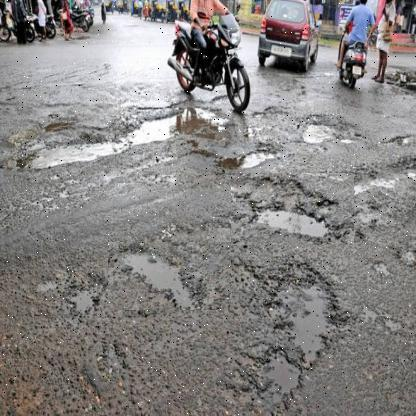damage: (108, 242, 232, 311)
pothole_water: (231, 173, 355, 246)
pothole_water_m: (9, 94, 227, 183), (243, 254, 358, 402)
